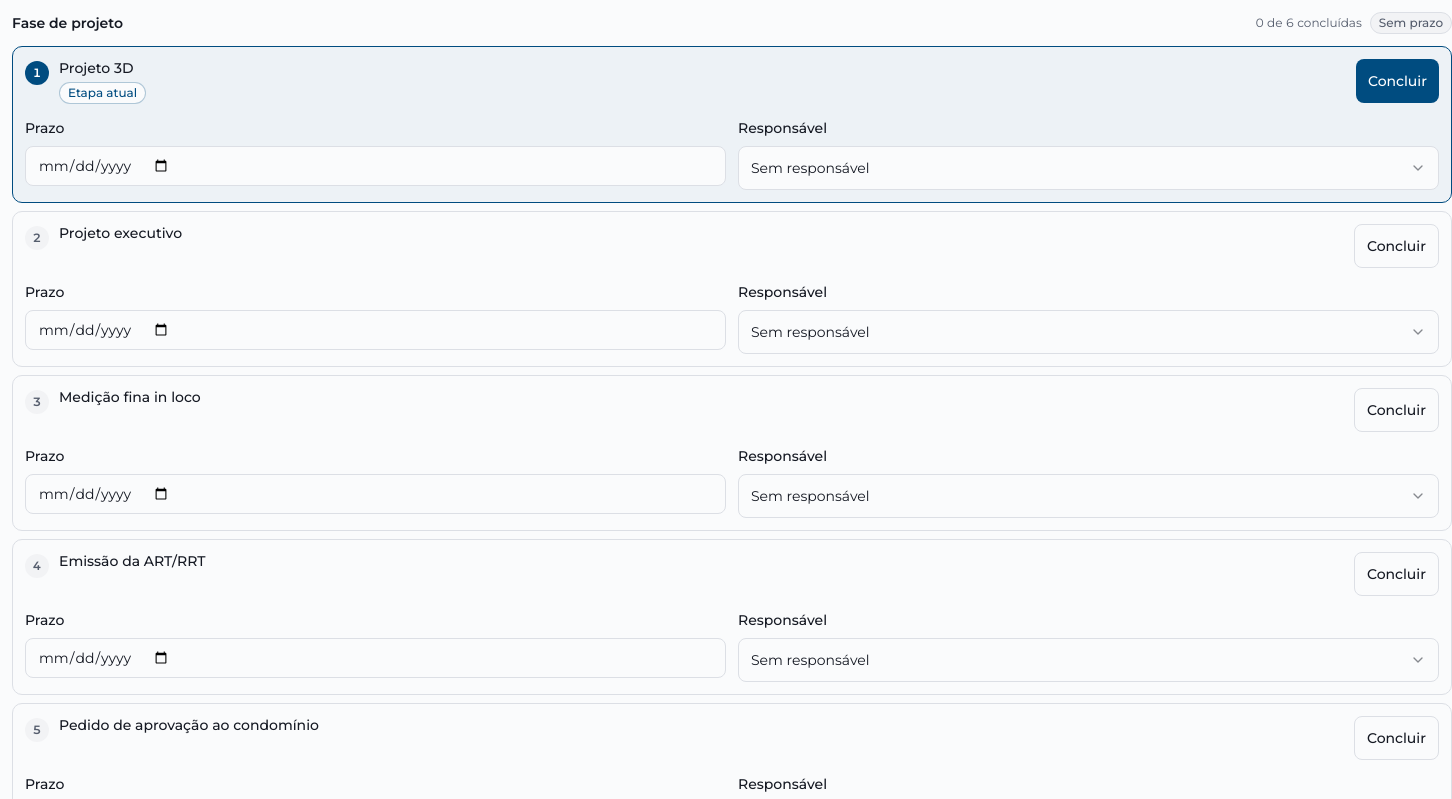
Test: Fase de projeto: concluir e reabrir › cancelar fecha o formulário sem gravar
Click the button "Concluir" in the row of "Etapa atual" at {"x": 1398, "y": 81}, box left=1356, top=59, right=1439, bottom=103
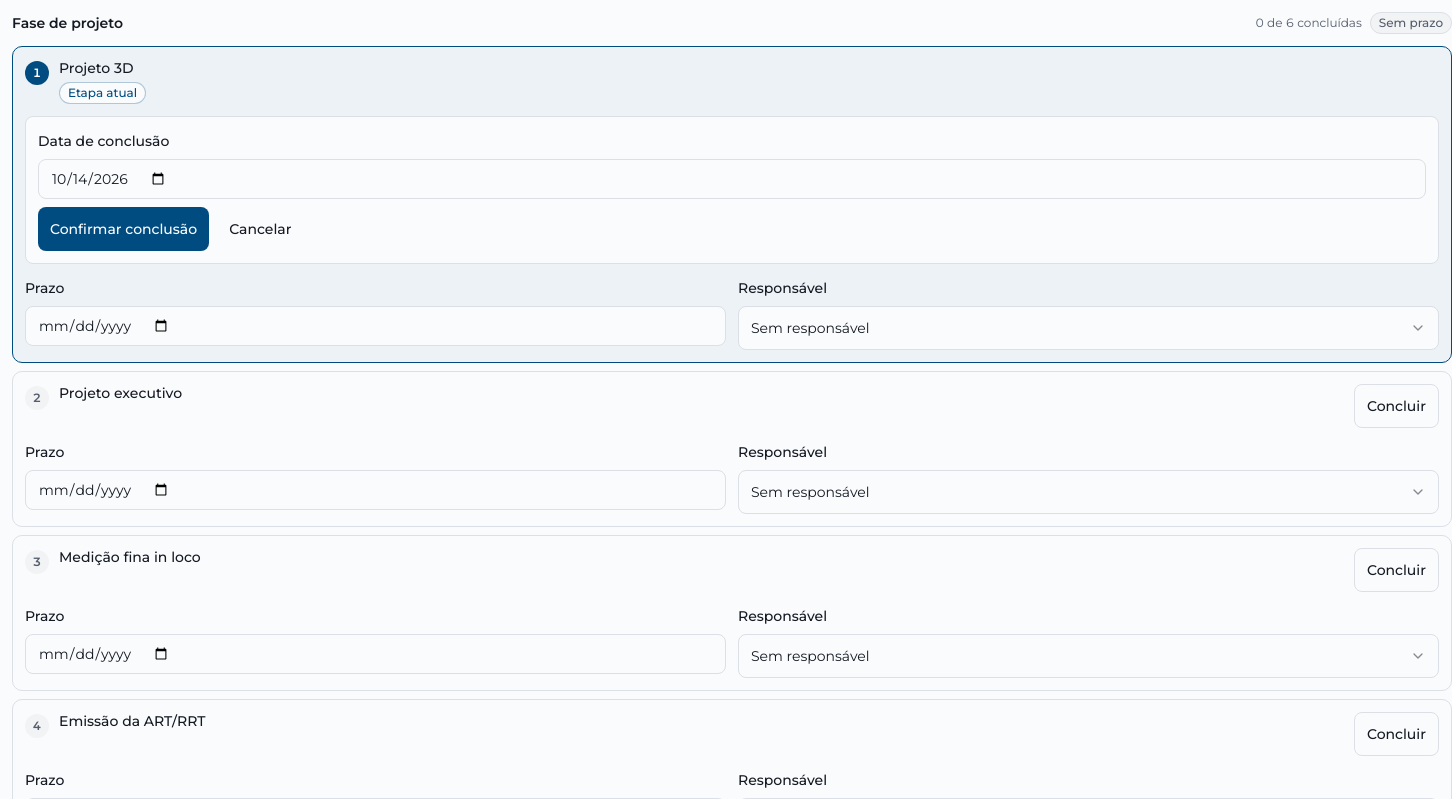
Click the button "Cancelar" at {"x": 260, "y": 229}, box left=217, top=207, right=303, bottom=251
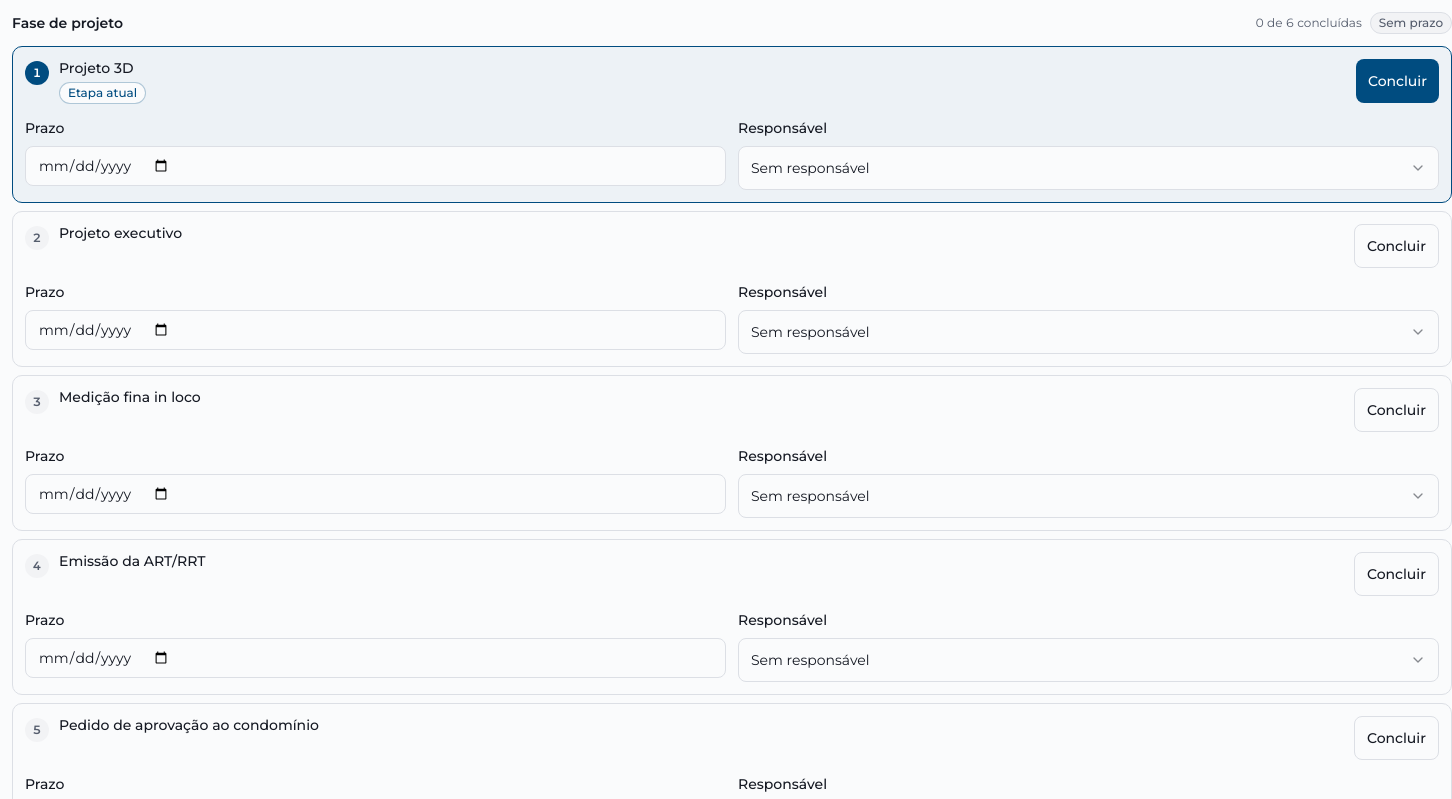
Result: the label labelled "Data de conclusão" is gone
Result: the button "Concluir" in the row of "Etapa atual" is shown at left=1356, top=59, right=1439, bottom=103
